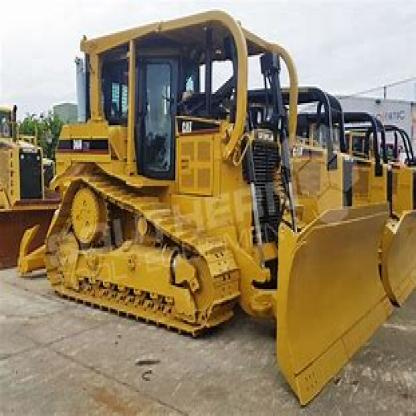bull_dozer/loader/grader: (38, 11, 406, 407)
